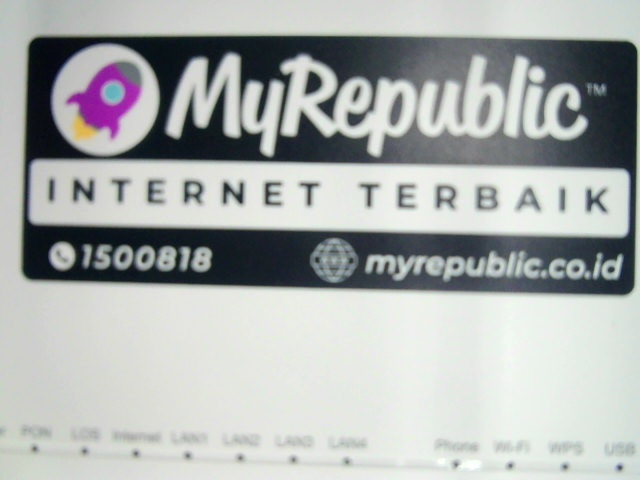BD_MyRepublic: (16, 32, 635, 301)
